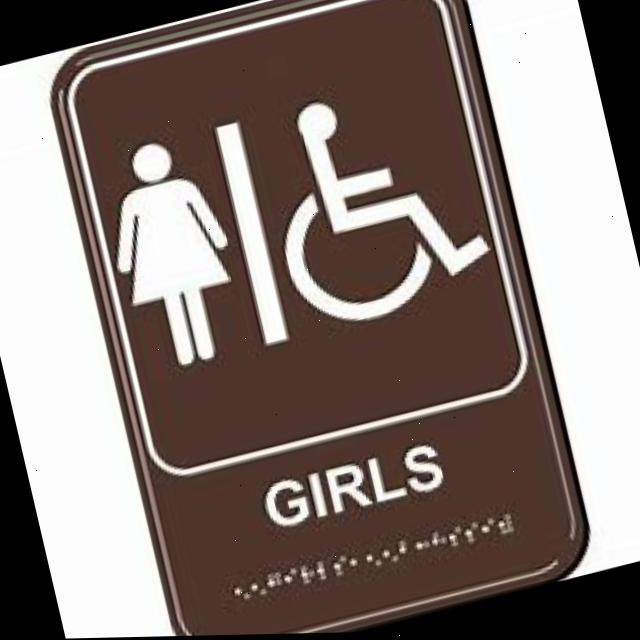symbol_of_access: (248, 65, 504, 347)
